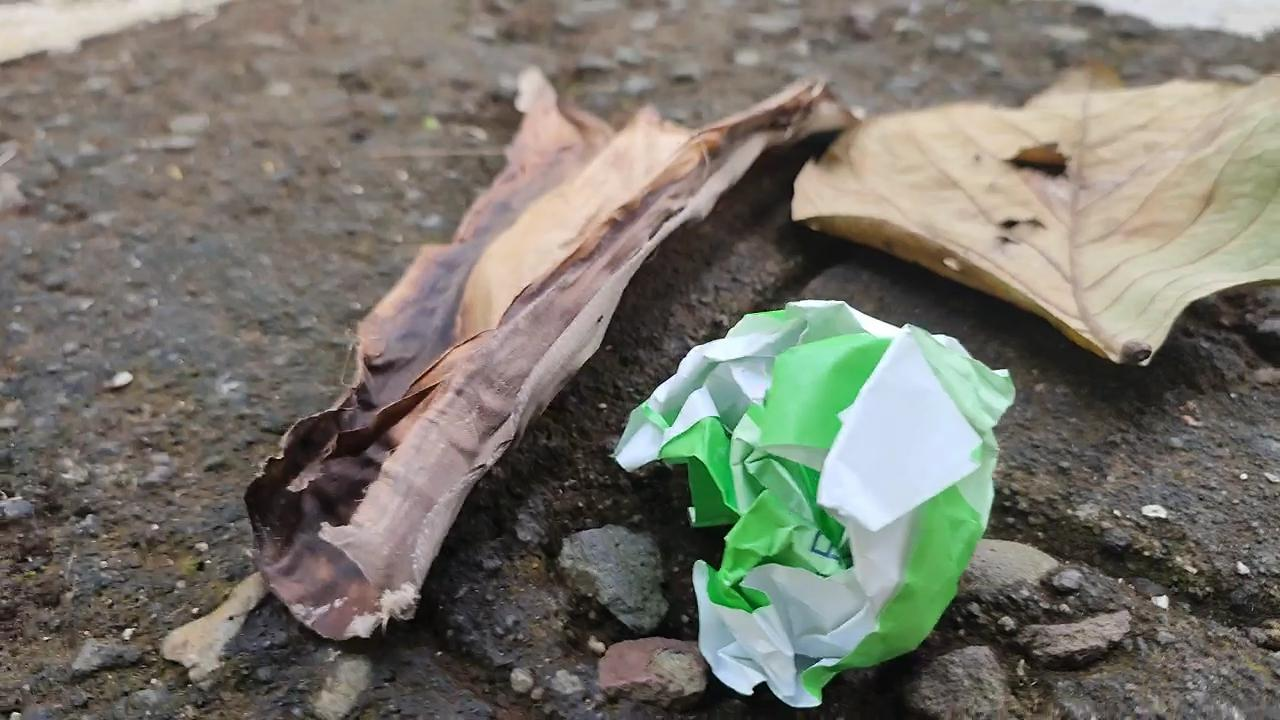Paper: (589, 291, 1034, 716)
